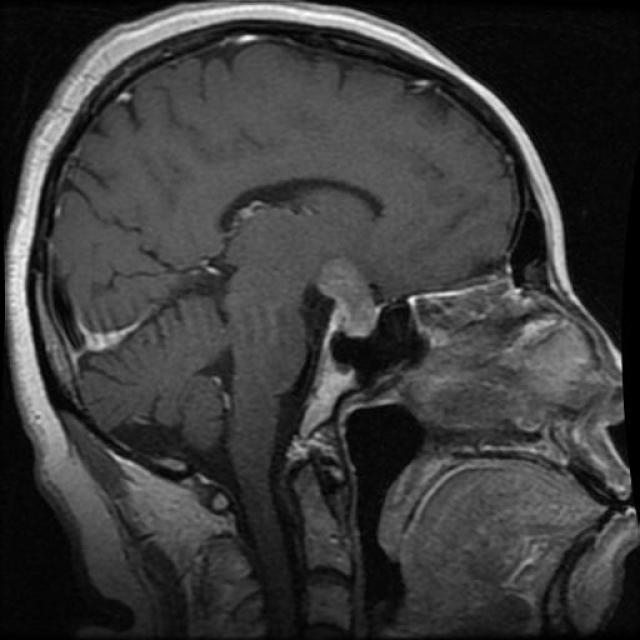pituitary: (291, 254, 394, 368)
